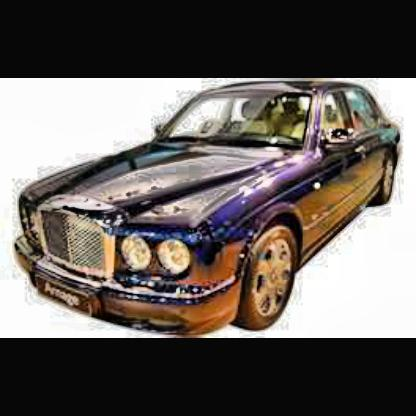Bentley Arnage Sedan 2009: (14, 80, 407, 338)
